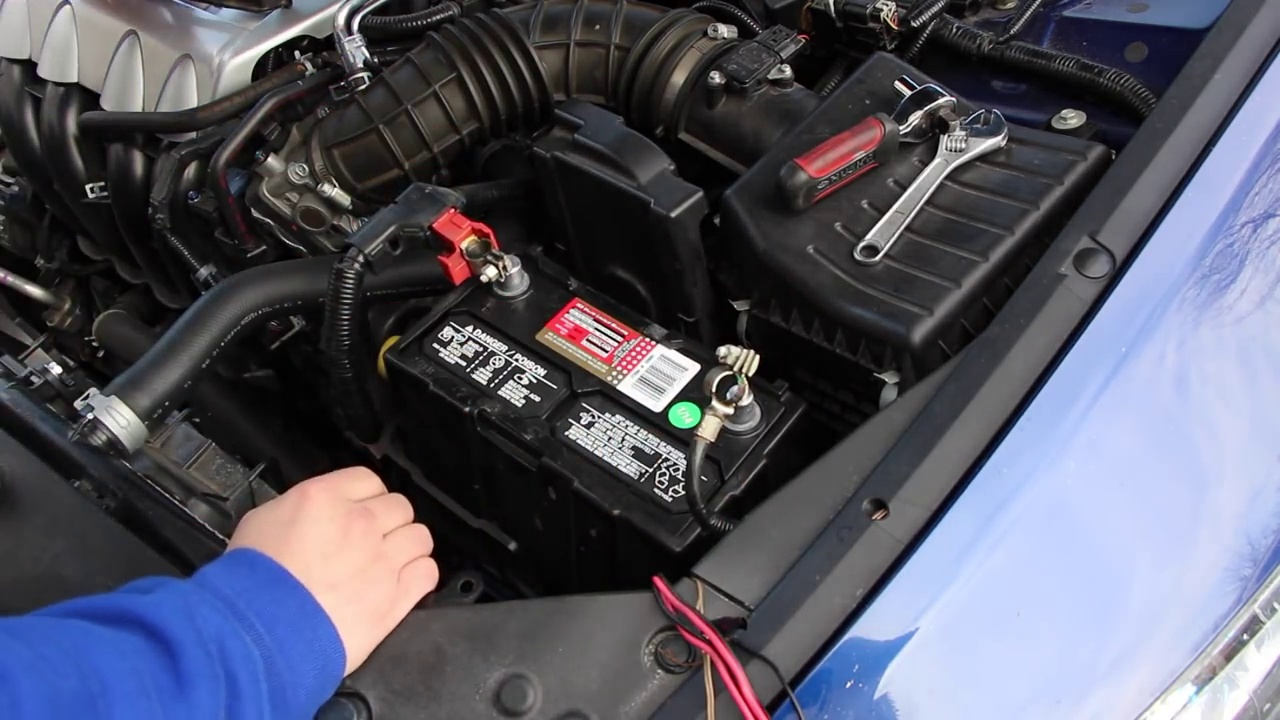battery: (392, 241, 783, 550)
neg_disconnected: (686, 334, 772, 468)
pos_connected: (418, 193, 540, 310)
